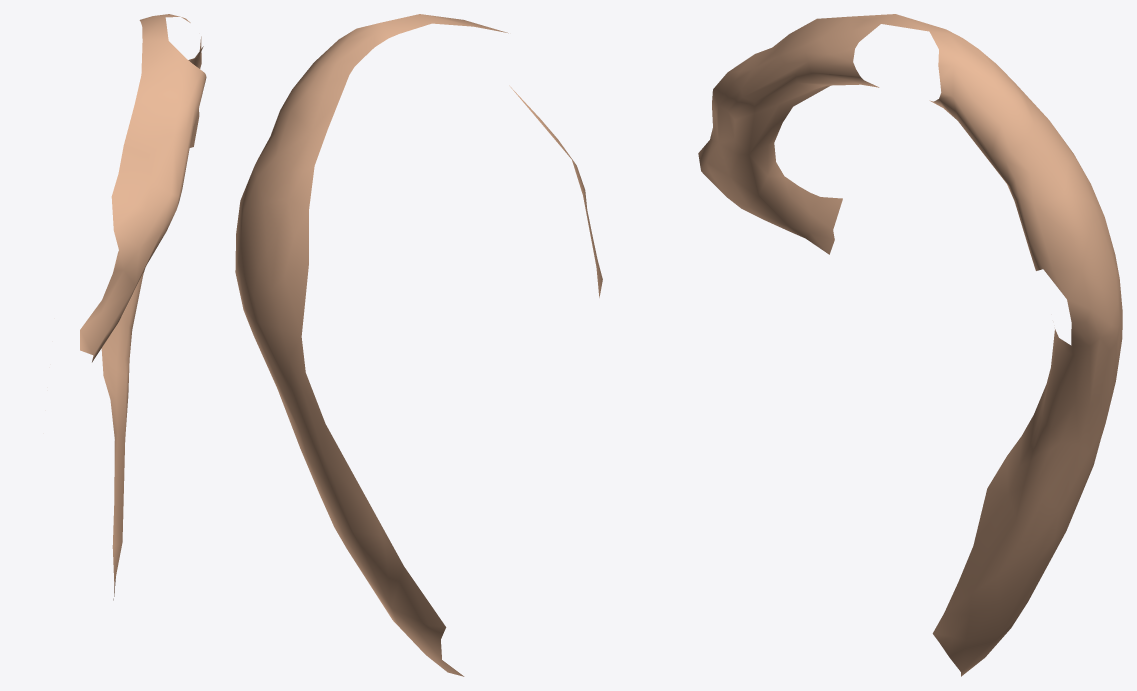
Rendered from helix-l.glb.
The picture shows the model from 3 angles, left to right: view 1: azimuth 30°, elevation 25°; view 2: azimuth 150°, elevation 25°; view 3: azimuth 270°, elevation 25°; orthographic projection. The views are drawn at different scales.
Visible parts, largest first — view 1: Helix.l; view 2: Helix.l; view 3: Helix.l.
Boxes of the visible parts, x1,y1,x2,y2 form: Helix.l: (80,14,206,600); Helix.l: (235,14,602,676); Helix.l: (698,14,1122,676).
Bounding box in the file's own units: 0.0217 × 0.0483 × 0.0268.
